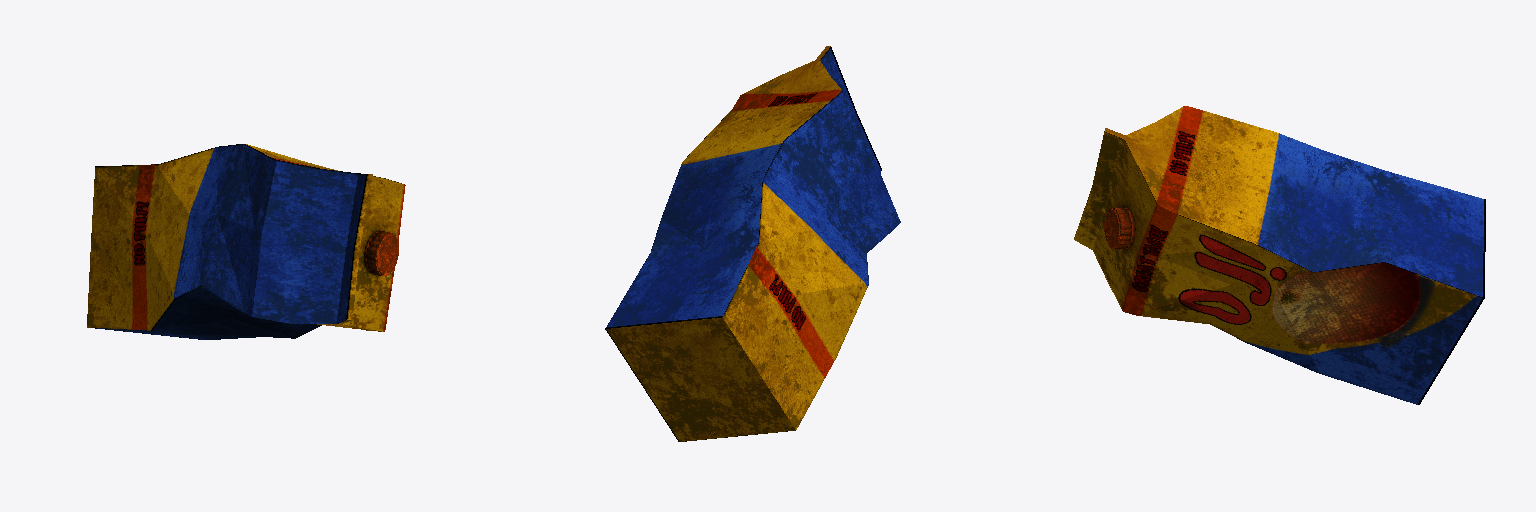
3 renders of one model, left to right at view 1: azimuth 30°, elevation 25°; view 2: azimuth 150°, elevation 25°; view 3: azimuth 270°, elevation 25°, orthographic.
Bounding box in the file's own units: 0.5534 × 0.7507 × 1.
1 materials, 1 textured.